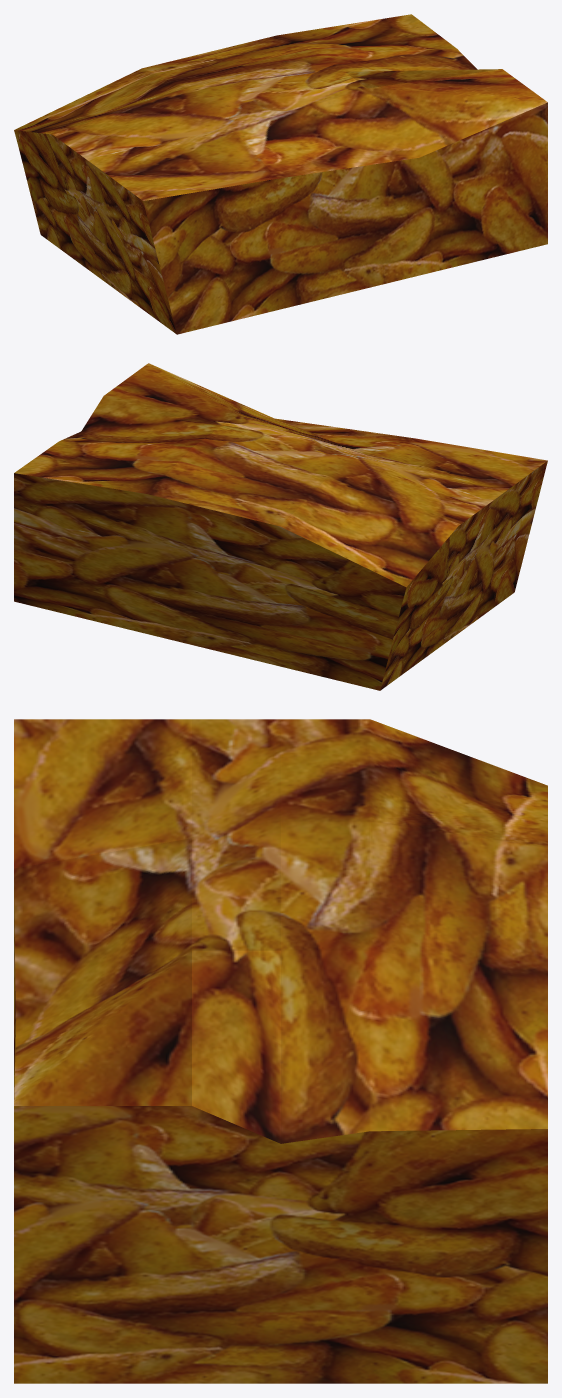
Rendered from f_WedgeFries_fryingBasket.fbx.
3 views of the same model, one above another, from view 1: azimuth 30°, elevation 25°; view 2: azimuth 150°, elevation 25°; view 3: azimuth 270°, elevation 25° (orthographic). The views are drawn at different scales.
Visible parts, largest first — view 1: f_fries_inFryingbasket; view 2: f_fries_inFryingbasket; view 3: f_fries_inFryingbasket.
Boxes of the visible parts, x1=… form: f_fries_inFryingbasket: x1=14, y1=14, x2=547, y2=334; f_fries_inFryingbasket: x1=14, y1=363, x2=547, y2=690; f_fries_inFryingbasket: x1=14, y1=719, x2=547, y2=1383.
Size of the model in its own units: 30.94 by 53.03 by 19.46.
